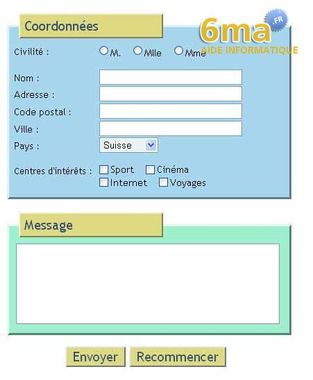_form_: (1, 1, 313, 380)
button: (129, 346, 227, 368), (65, 346, 125, 367)
checkbox: (159, 176, 172, 189), (99, 163, 110, 175), (99, 176, 110, 188), (146, 164, 157, 175)
checkbox_with_label: (97, 175, 148, 190), (158, 175, 205, 190), (145, 162, 190, 176), (97, 162, 136, 176)
field: (15, 242, 282, 326), (97, 120, 243, 138), (98, 68, 243, 85), (98, 85, 243, 102), (98, 103, 244, 119), (98, 137, 158, 154)
field_with_label: (13, 67, 244, 87), (14, 84, 245, 104), (15, 119, 245, 139), (15, 102, 245, 120), (14, 137, 161, 155)
radio: (174, 45, 186, 57), (133, 45, 144, 56), (100, 44, 110, 56)
radio_with_label: (172, 43, 205, 59), (131, 43, 161, 58), (98, 43, 121, 58)
